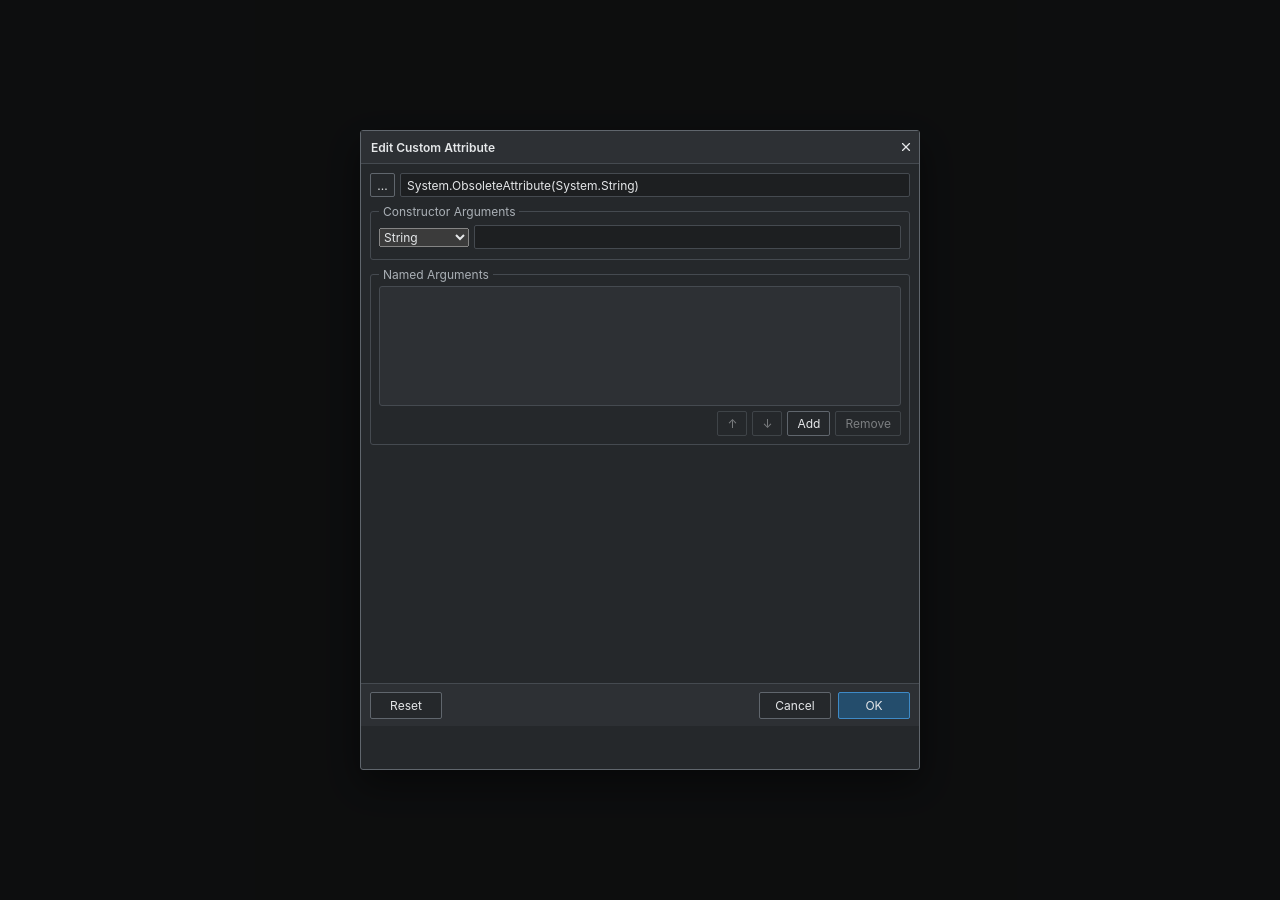
Scenario: CustomAttributeDialog › puts the attribute back the way it opened
The image size is (1280, 900).
Click the button named "Pick a Constructor" at (382, 185), box [370,173,395,197]
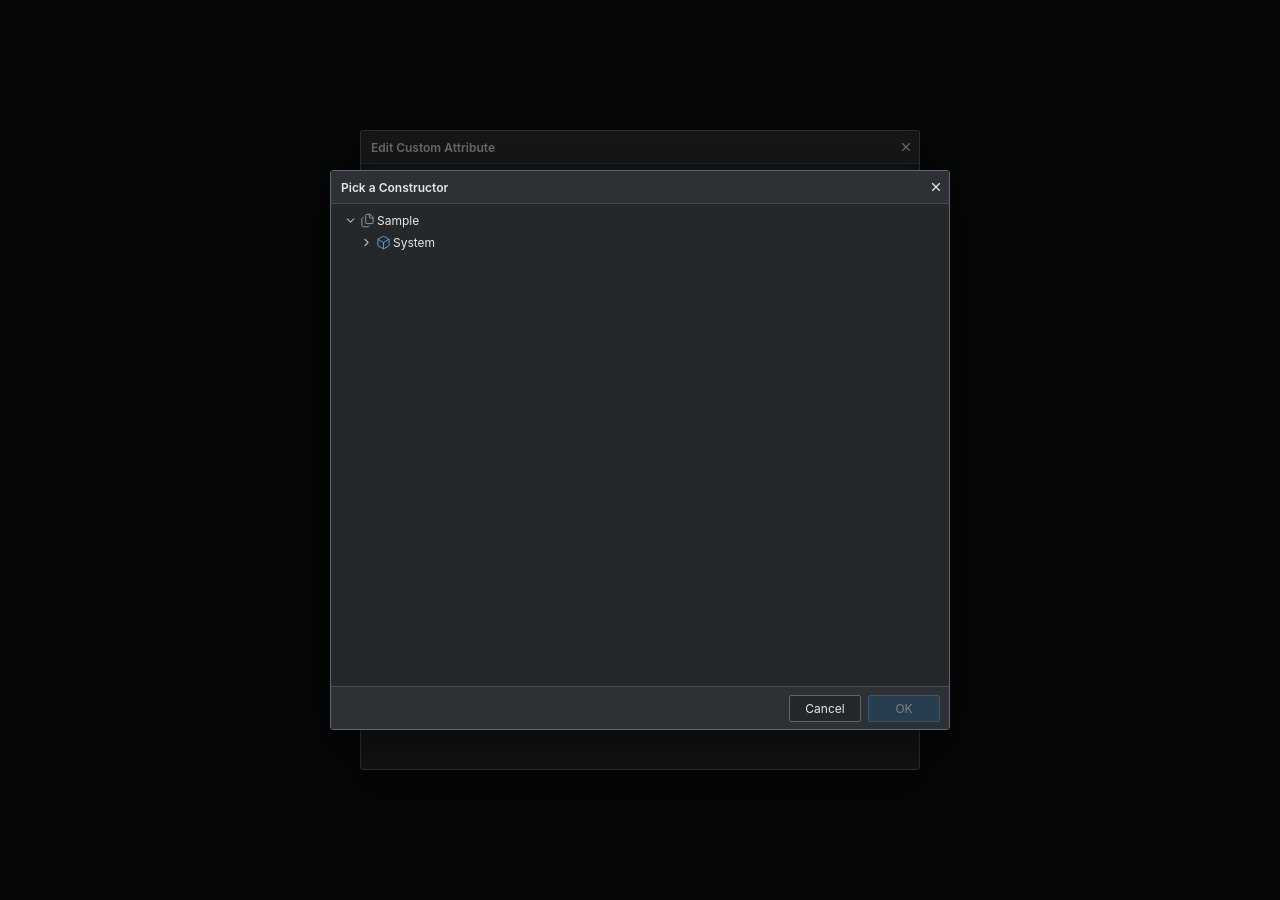
Now the text "Sample" is shown, box [377,212,419,228]
Click the button named "Expand" at (366, 242), box [358,233,374,251]
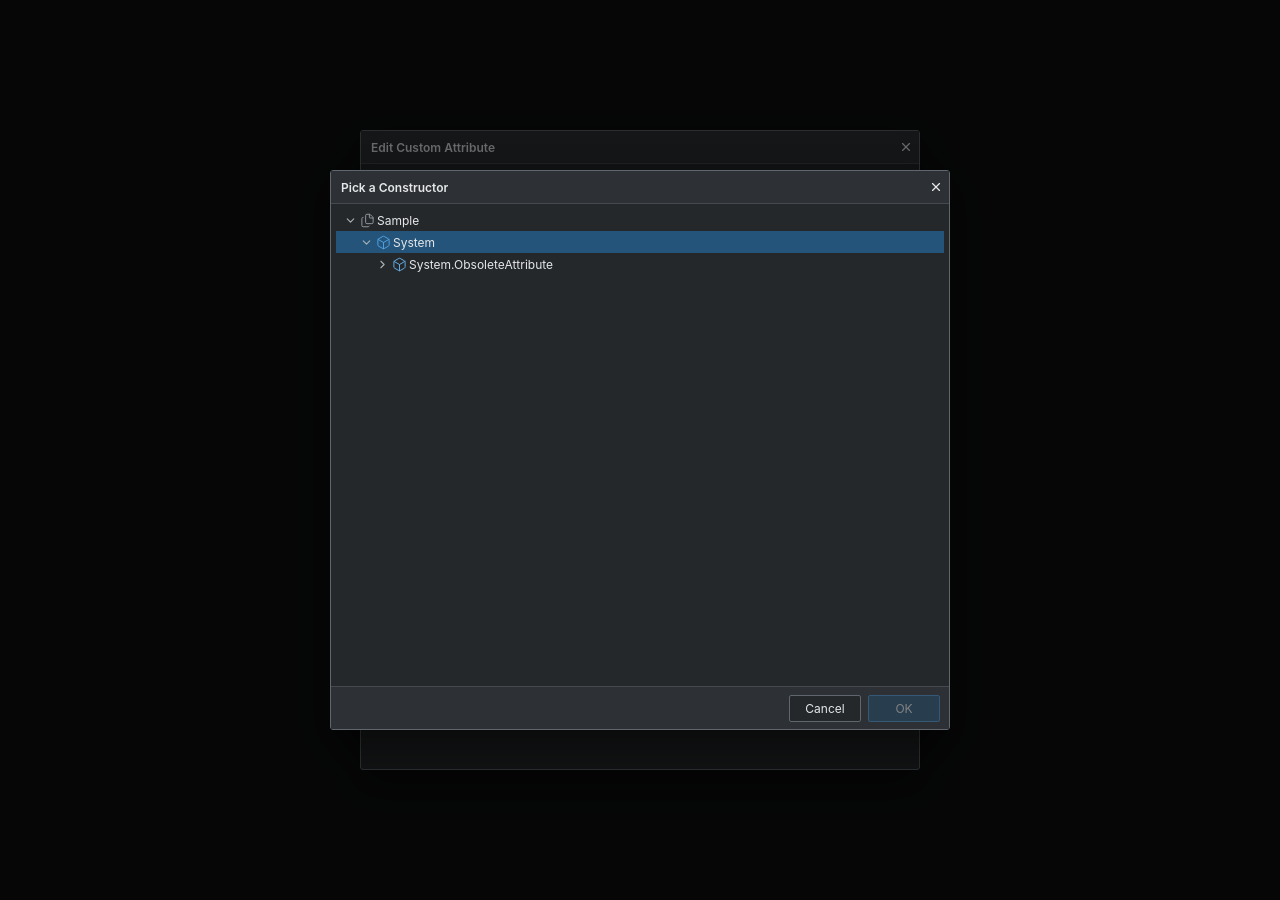
Now the text "System.ObsoleteAttribute" is shown, box [409,256,553,272]
Click the button named "Expand" at (382, 264), box [374,255,390,273]
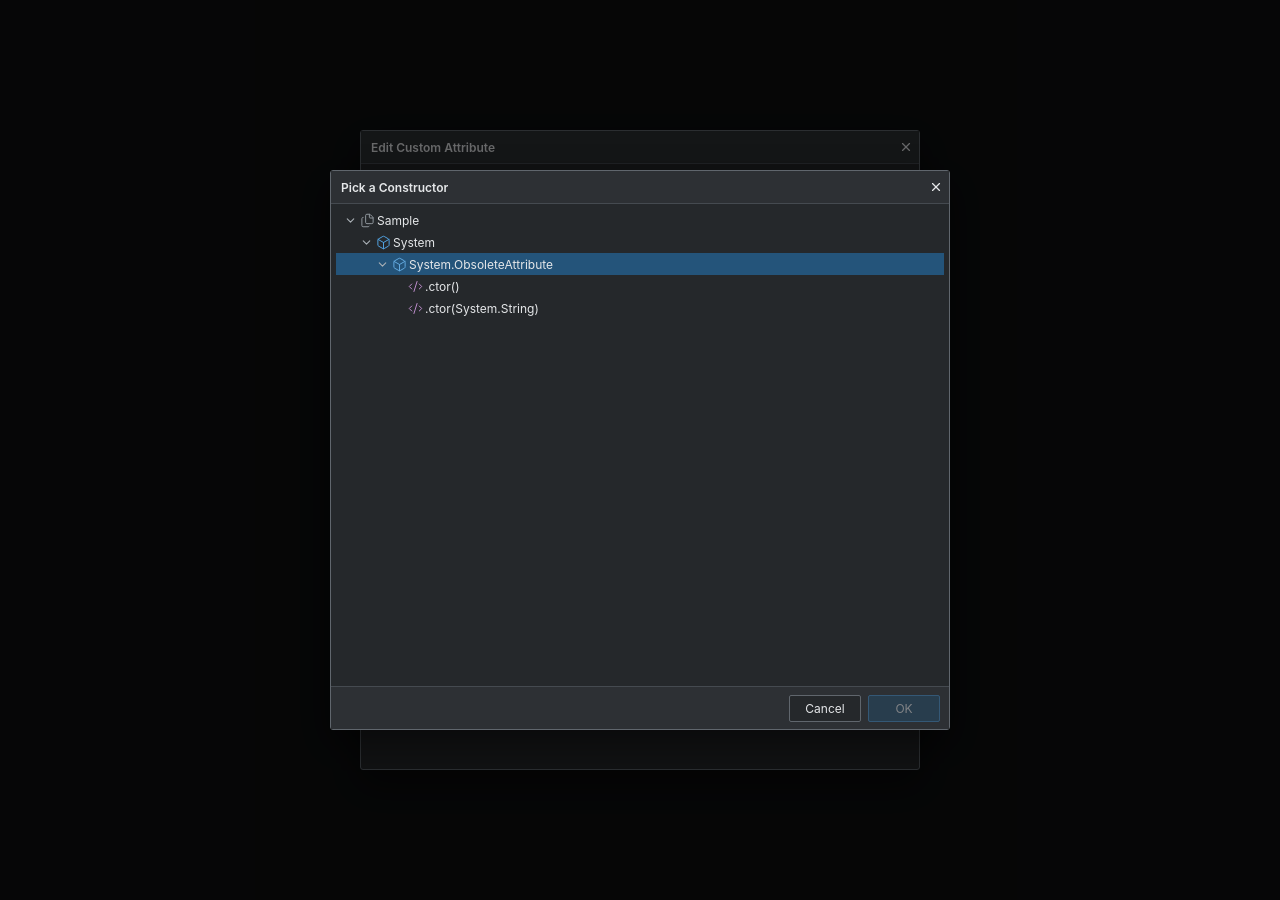
Click the text ".ctor()" at (442, 286), box [425,278,460,294]
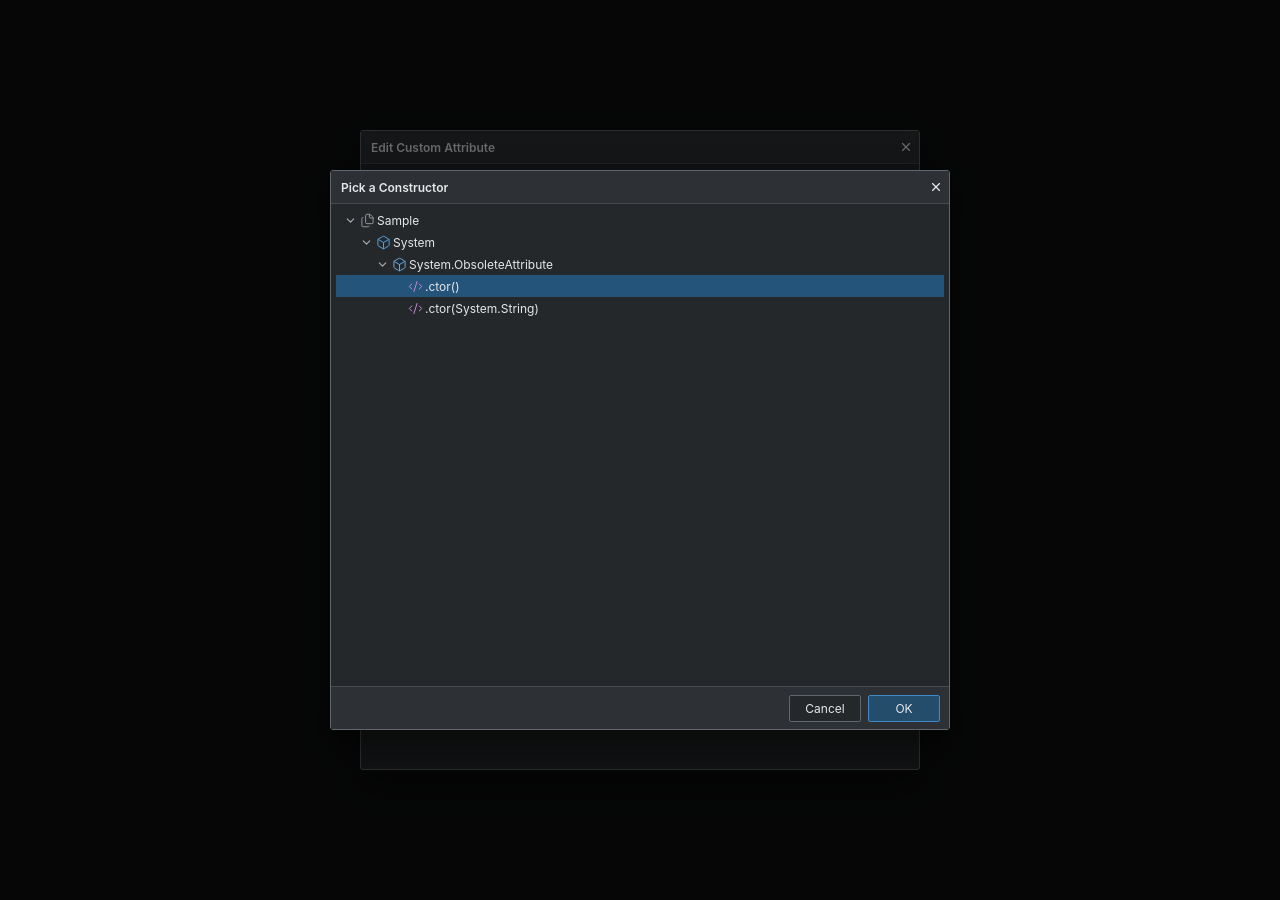
Click the button "OK" at (904, 708), box [868,694,940,722]
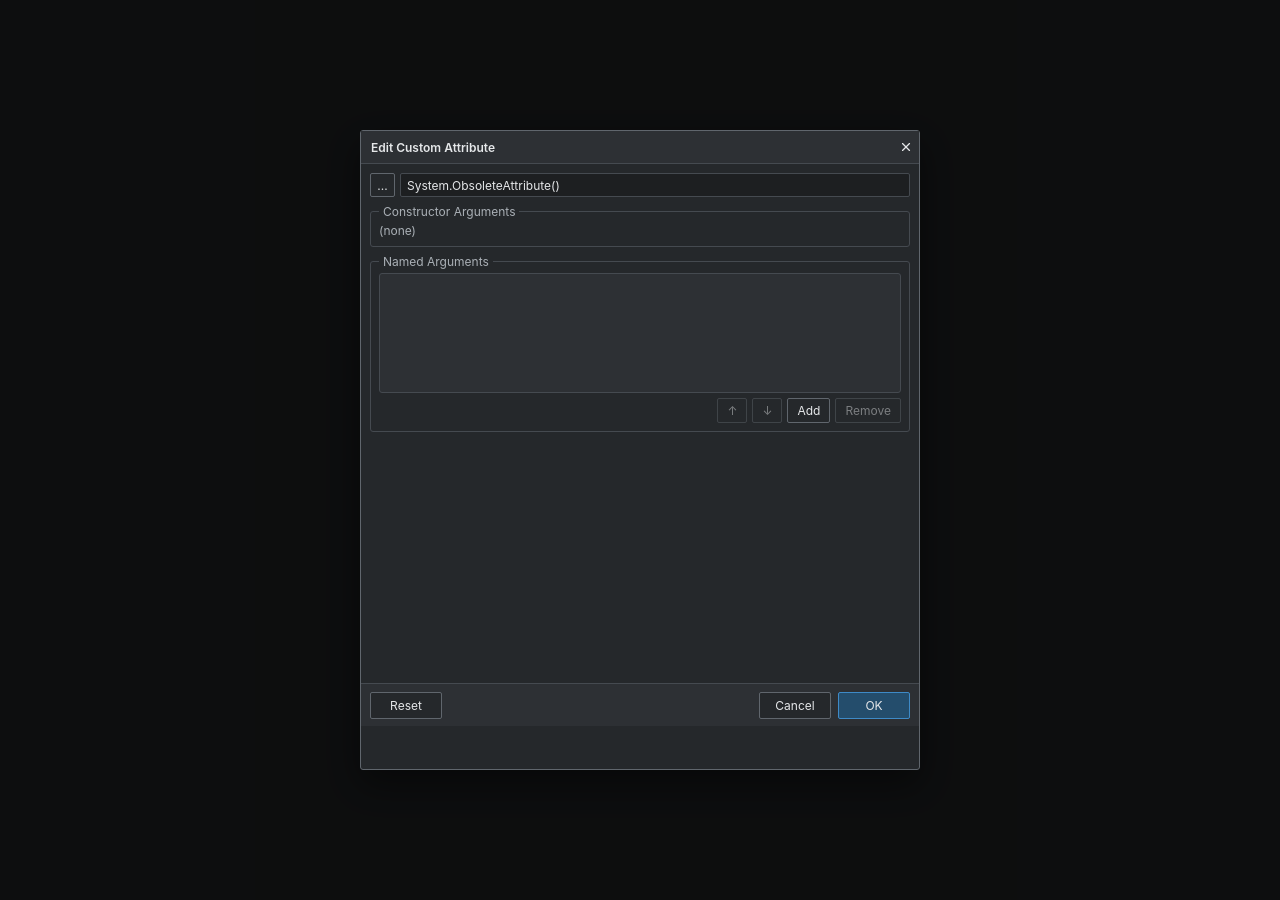
Now the text "Pick a Constructor" is gone
Click the button "Reset" at (406, 705), box [370,692,442,718]
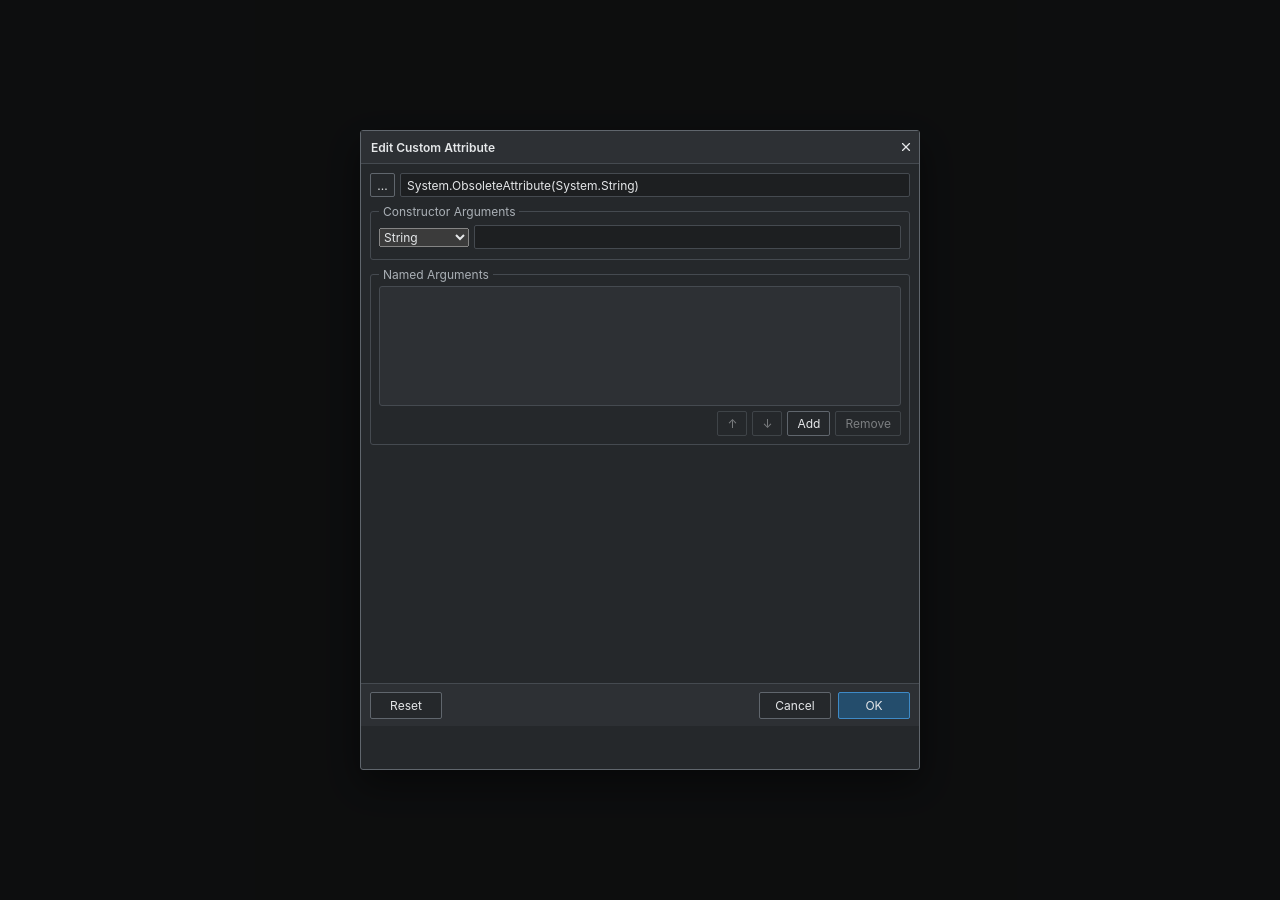
Now the number of dropdowns named "Value type" is 1, box [379,228,469,246]
Now the field named "Constructor" holds "System.ObsoleteAttribute(System.String)", box [400,173,910,197]
